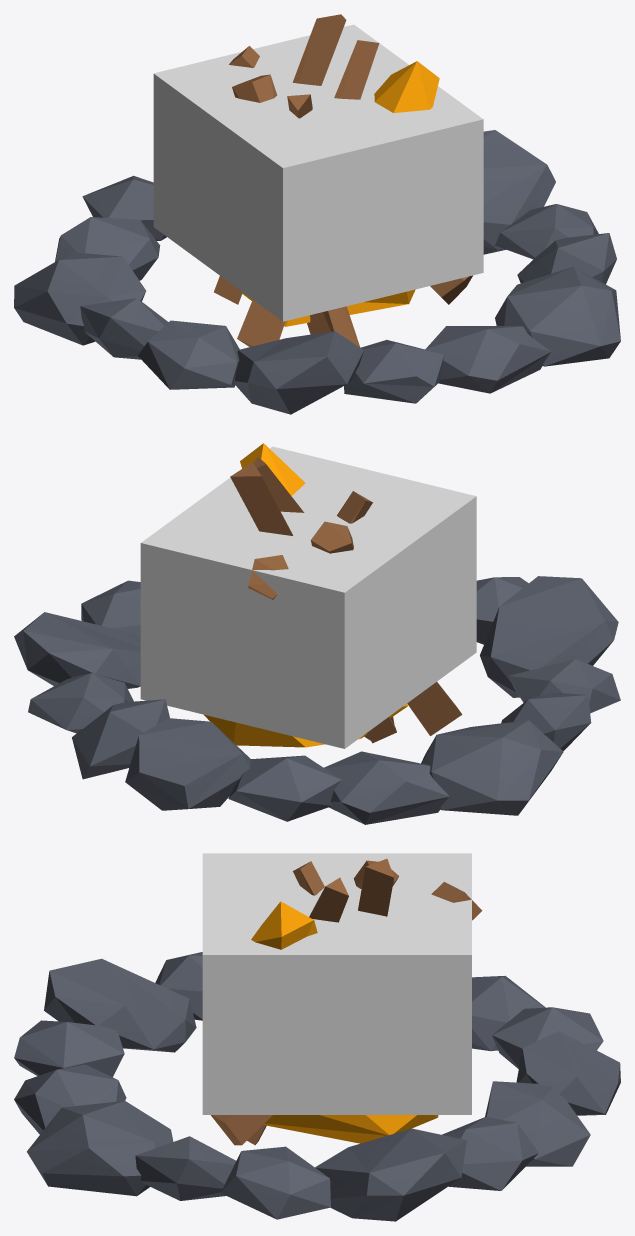
Rendered from bonfire.glb.
3 views of the same model, one above another, from view 1: azimuth 30°, elevation 25°; view 2: azimuth 150°, elevation 25°; view 3: azimuth 270°, elevation 25° (orthographic). The views are drawn at different scales.
Parts seen in each view (by area): view 1: Fire, Cube.009; view 2: Fire, Cube.009; view 3: Fire, Cube.009.
Boxes of the visible parts, <box> form: Fire: <box>14,14,620,414</box>; Cube.009: <box>153,24,483,321</box>; Fire: <box>14,443,620,824</box>; Cube.009: <box>140,446,476,748</box>; Fire: <box>14,858,620,1221</box>; Cube.009: <box>202,853,471,1114</box>.
Size of the model in its own units: 1.6 by 0.8785 by 1.56.
1 material, 1 textured.
